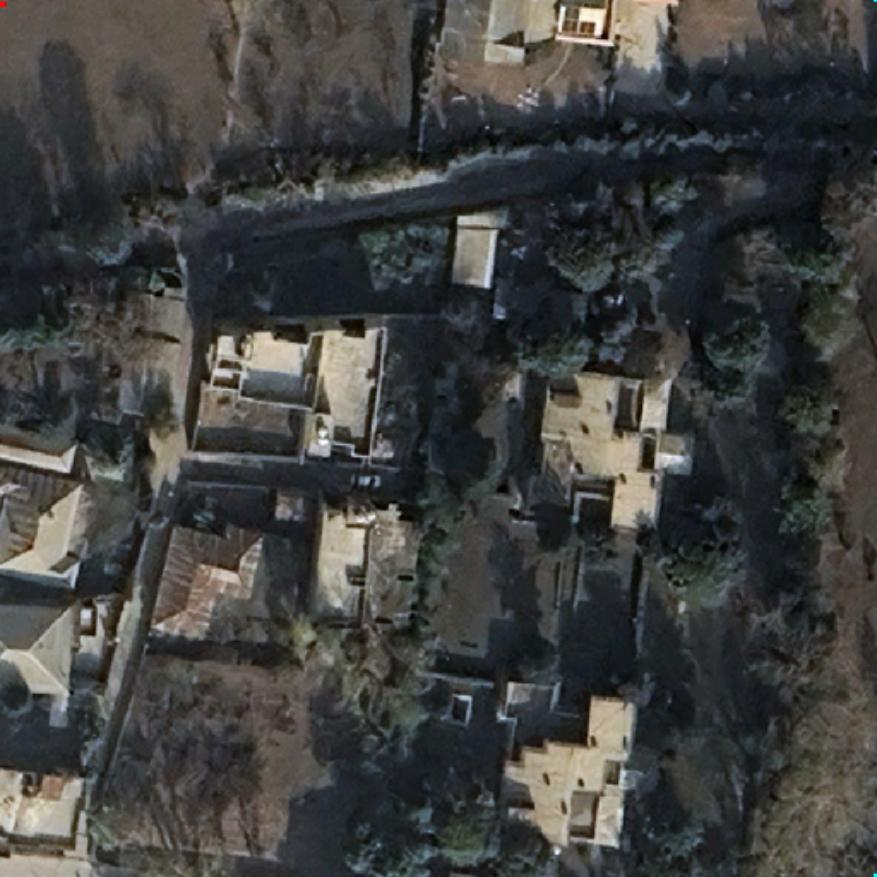Solarpanel: (562, 4, 580, 32), (578, 21, 594, 35)
